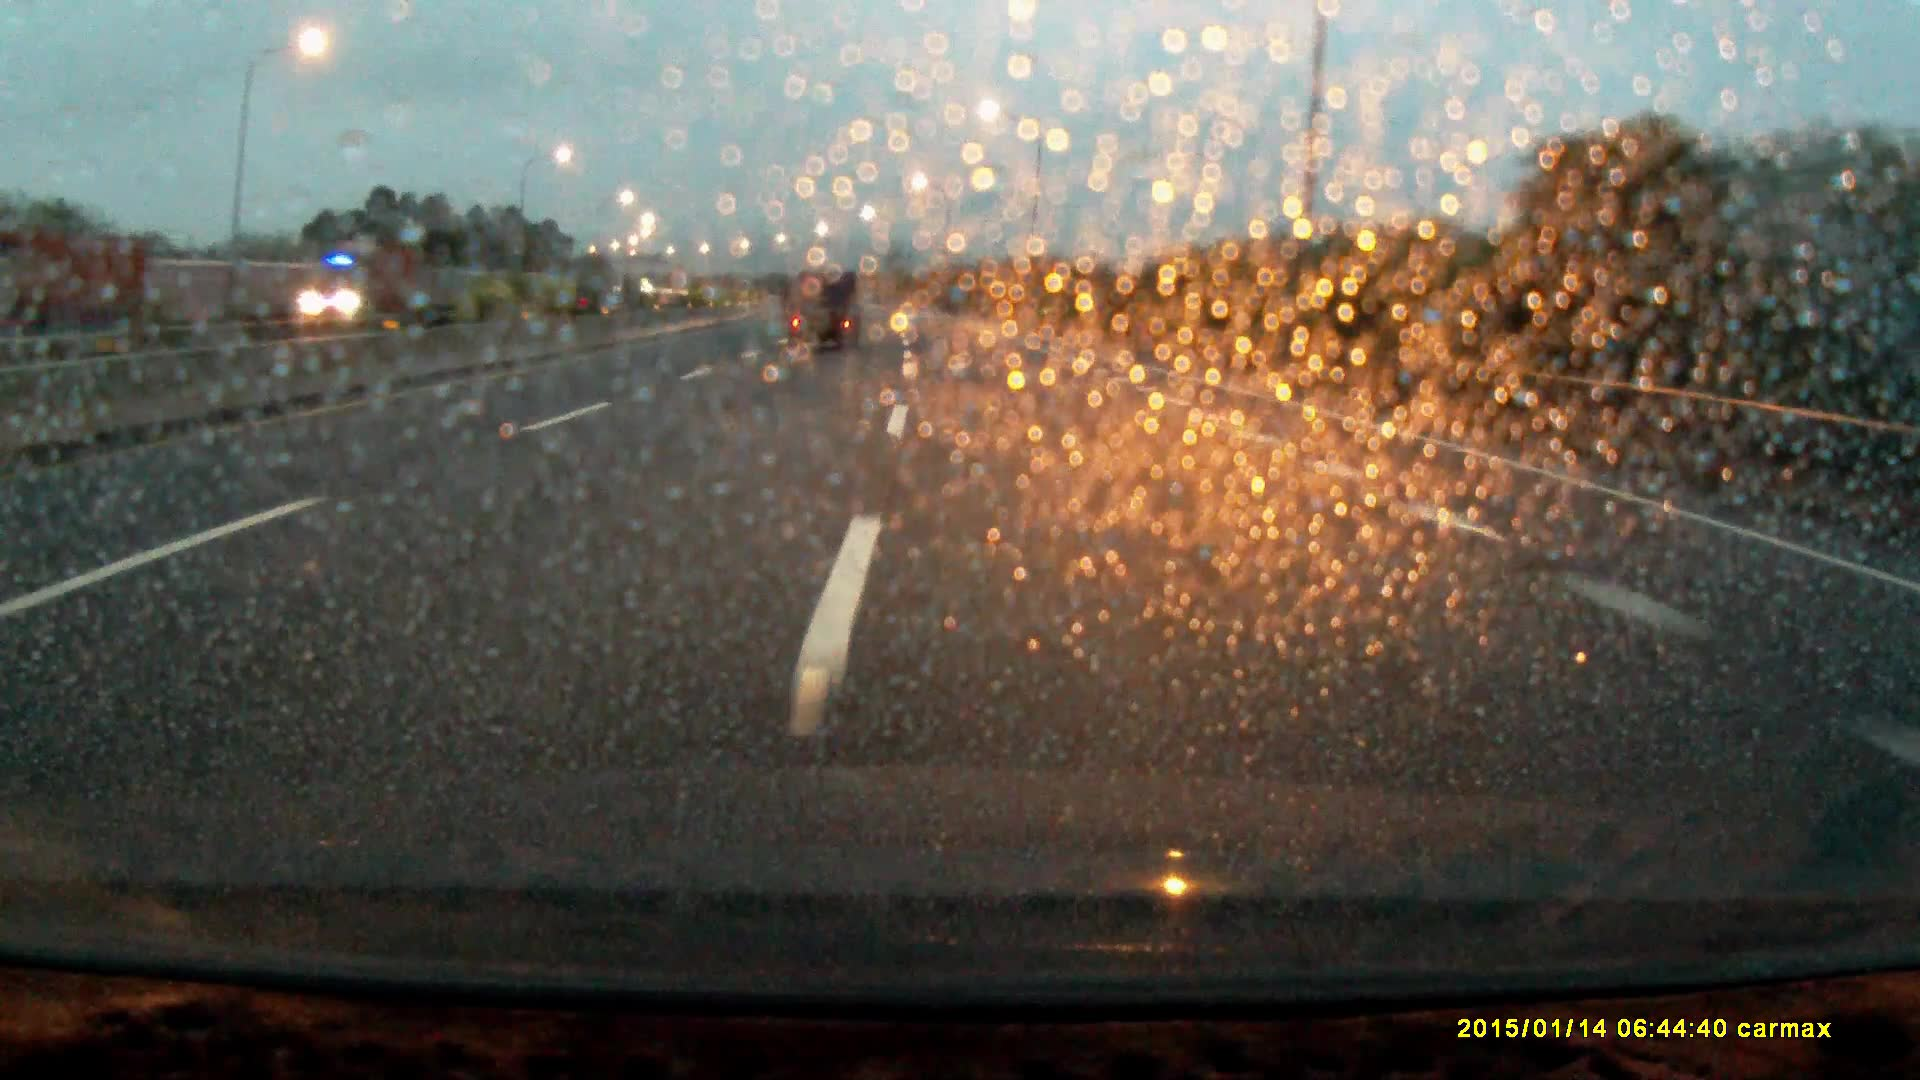vehicle: (297, 247, 429, 320), (782, 273, 862, 359)
